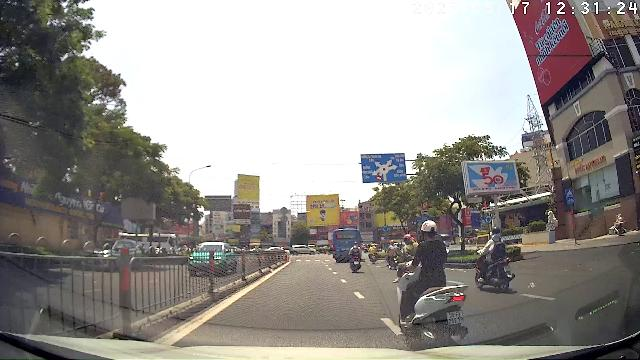303-noi-giao-nhau-chay-theo-vong-xuyen: (382, 224, 390, 231)
